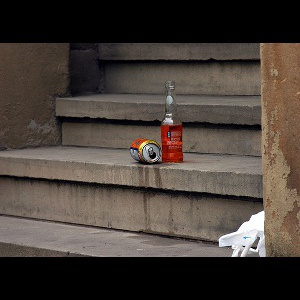emptybottle: (161, 81, 183, 163)
